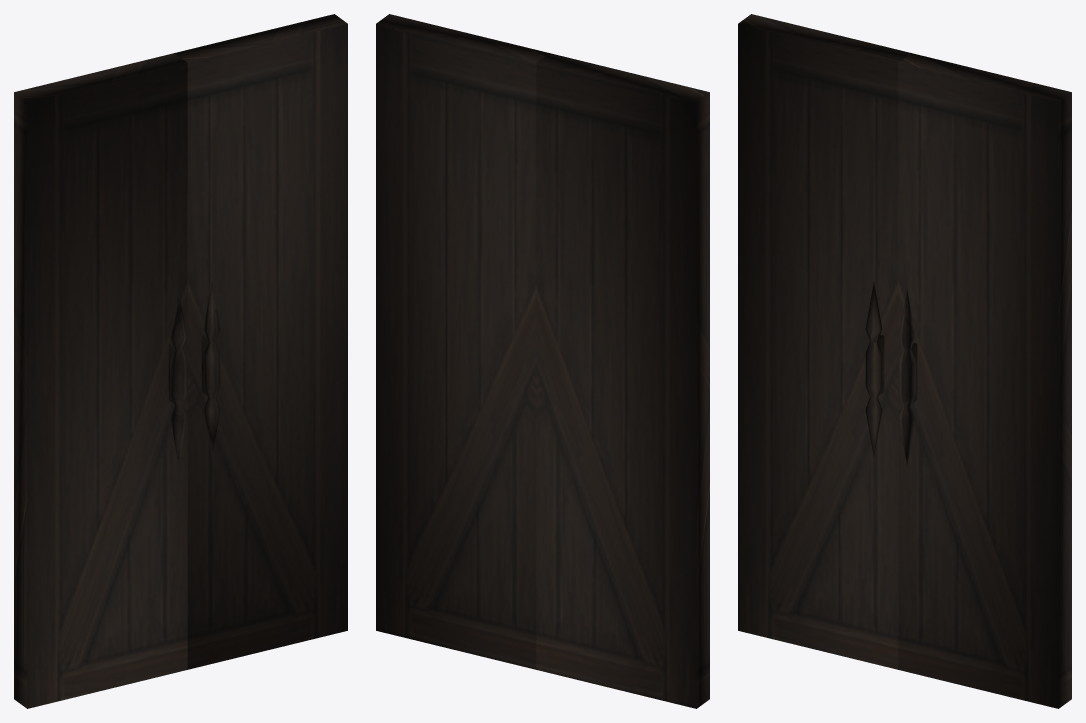
File: door.obj
3 renders of one model, left to right at view 1: azimuth 30°, elevation 25°; view 2: azimuth 150°, elevation 25°; view 3: azimuth 330°, elevation 25°, orthographic.
Visible parts, largest first — view 1: rdmobj00; view 2: rdmobj00; view 3: rdmobj00.
Boxes of the visible parts, box(x1,y1,x2,y2) form: rdmobj00: box(14, 14, 347, 708); rdmobj00: box(376, 14, 709, 708); rdmobj00: box(738, 14, 1071, 708).
Size of the model in its own units: 103 by 186 by 14.06.
